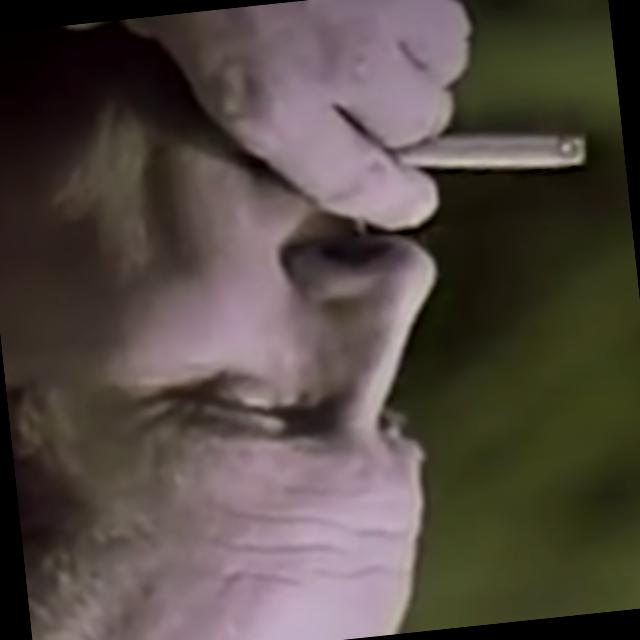cigarette: (414, 106, 612, 182)
